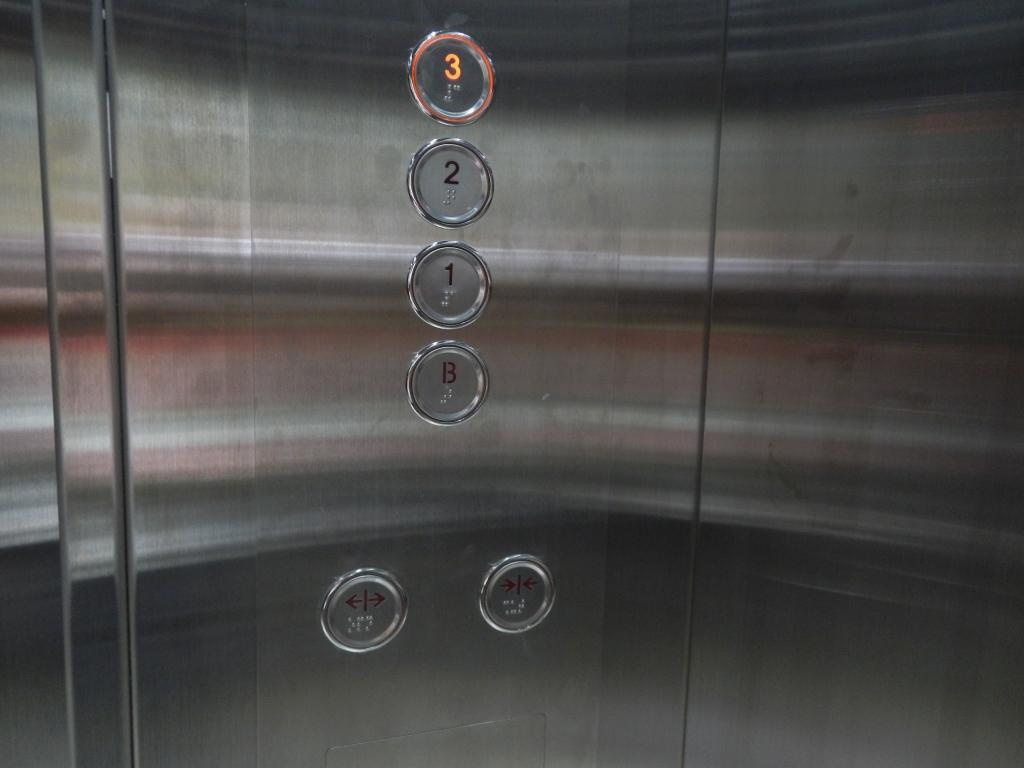1: (403, 231, 495, 331)
2: (407, 132, 499, 232)
3: (406, 27, 498, 127)
B: (405, 330, 491, 430)
close: (475, 547, 555, 635)
open: (322, 563, 406, 656)
